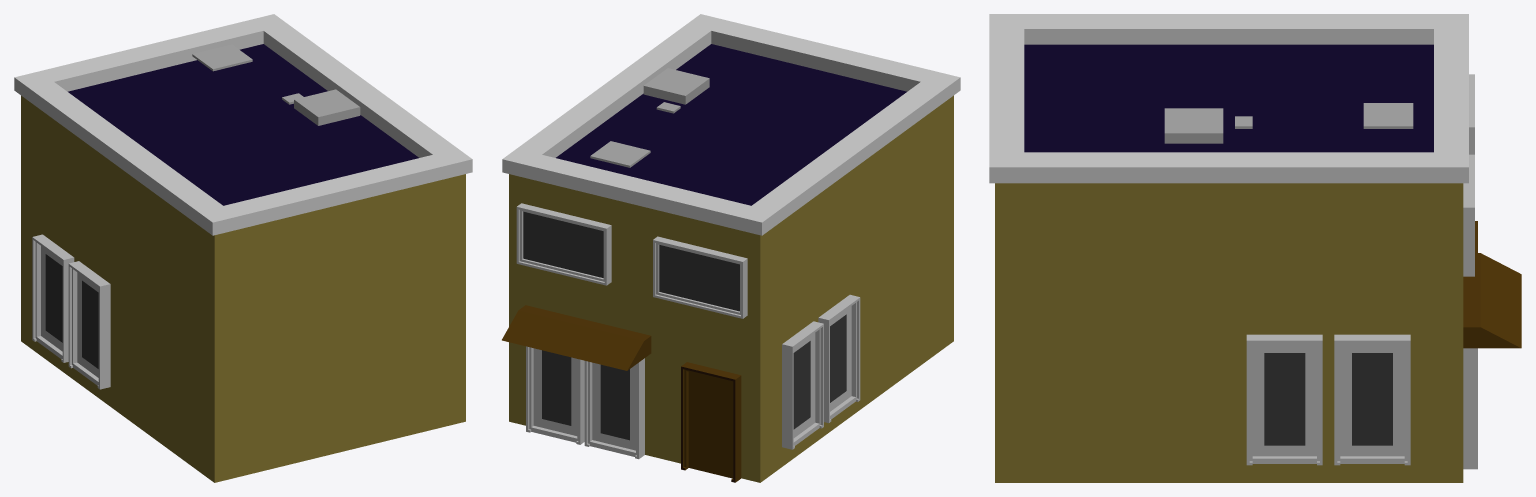
Rendered from Building_8 (1).fbx.
3 renders of one model, left to right at view 1: azimuth 30°, elevation 25°; view 2: azimuth 150°, elevation 25°; view 3: azimuth 270°, elevation 25°, orthographic. The views are drawn at different scales.
Parts seen in each view (by area): view 1: Building_8; view 2: Building_8; view 3: Building_8.
Part boxes in pixels (x1=…): Building_8: x1=14, y1=14, x2=472, y2=482; Building_8: x1=502, y1=14, x2=960, y2=482; Building_8: x1=989, y1=14, x2=1521, y2=482.
Bounding box in the file's own units: 650 × 620 × 910.
